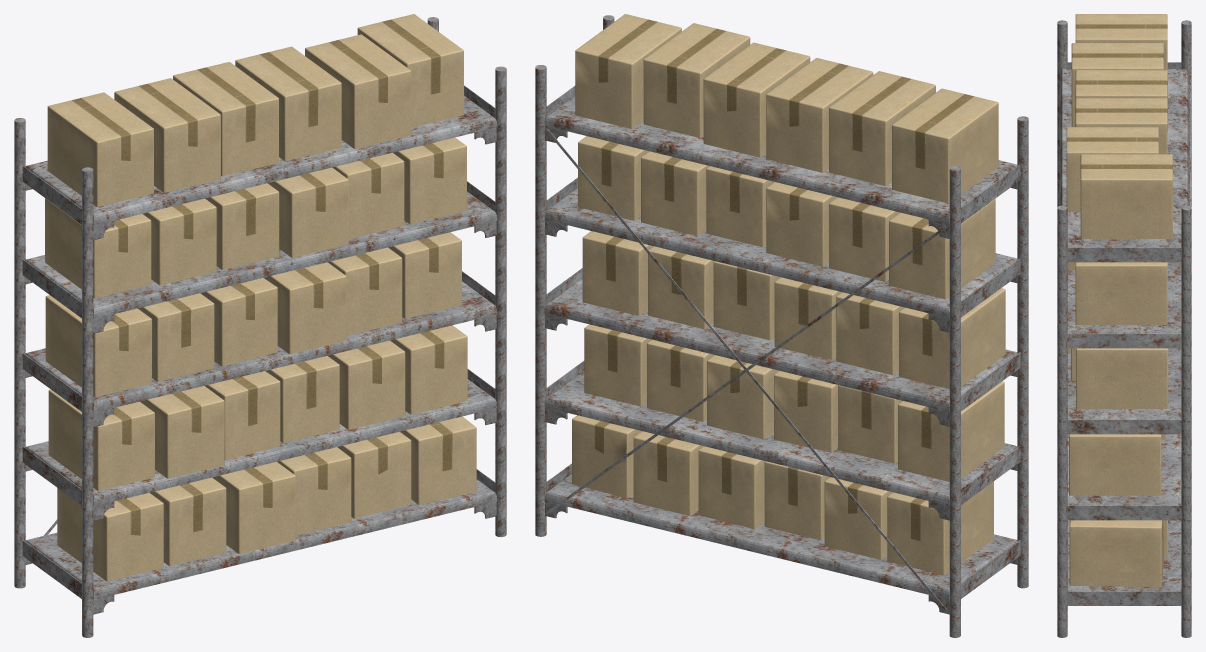
File: rusty_metal_warehouse_shelving.glb
3 views of the same model, side by side, from view 1: azimuth 30°, elevation 25°; view 2: azimuth 150°, elevation 25°; view 3: azimuth 270°, elevation 25° (orthographic). The views are drawn at different scales.
Visible parts, largest first — view 1: Material2 (×3); view 2: Material2 (×3); view 3: Material2 (×3).
Boxes of the visible parts, x1,y1,x2,y2 form: Material2 (×3): (14,14,506,637); Material2 (×3): (535,14,1028,637); Material2 (×3): (1057,14,1191,637).
Bounding box in the file's own units: 174 × 190 × 52.19.
4 materials, 3 textured.
